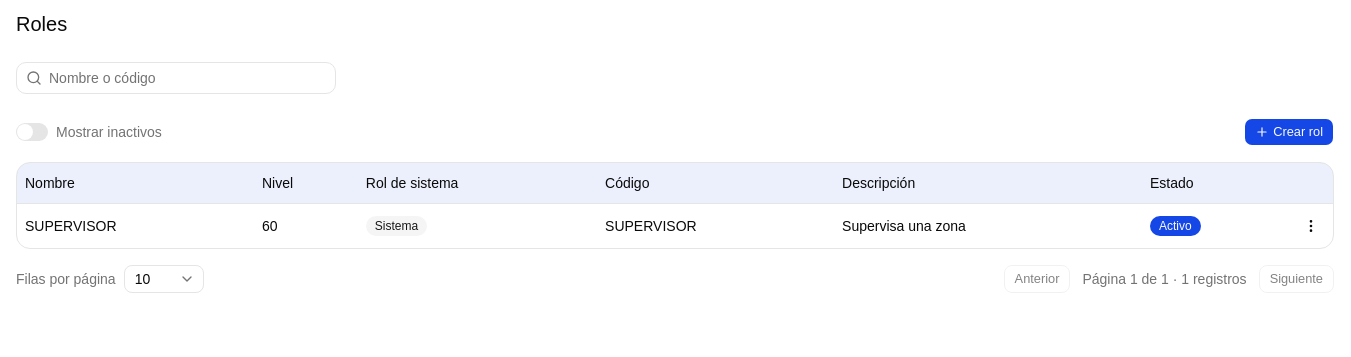
Test: AppRoleListPage — roles de sistema y ciclo de vida › con SUPERADMIN, ese mismo rol de sistema ofrece las dos
Click the button named "Acciones de la fila": (1311, 226) left=1297, top=212, right=1325, bottom=240
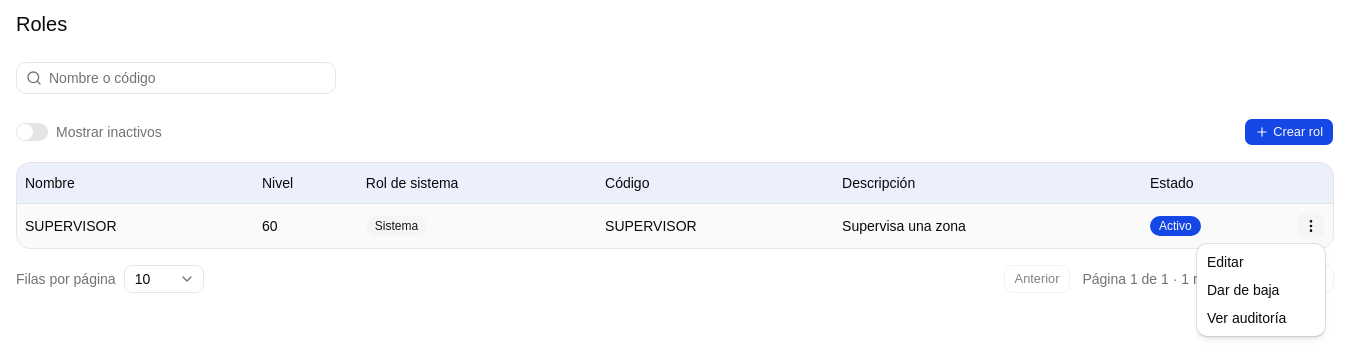
expect the menu item "Editar" is shown: met, box left=1207, top=254, right=1244, bottom=270
expect the menu item "Dar de baja" is shown: met, box left=1207, top=282, right=1279, bottom=298
